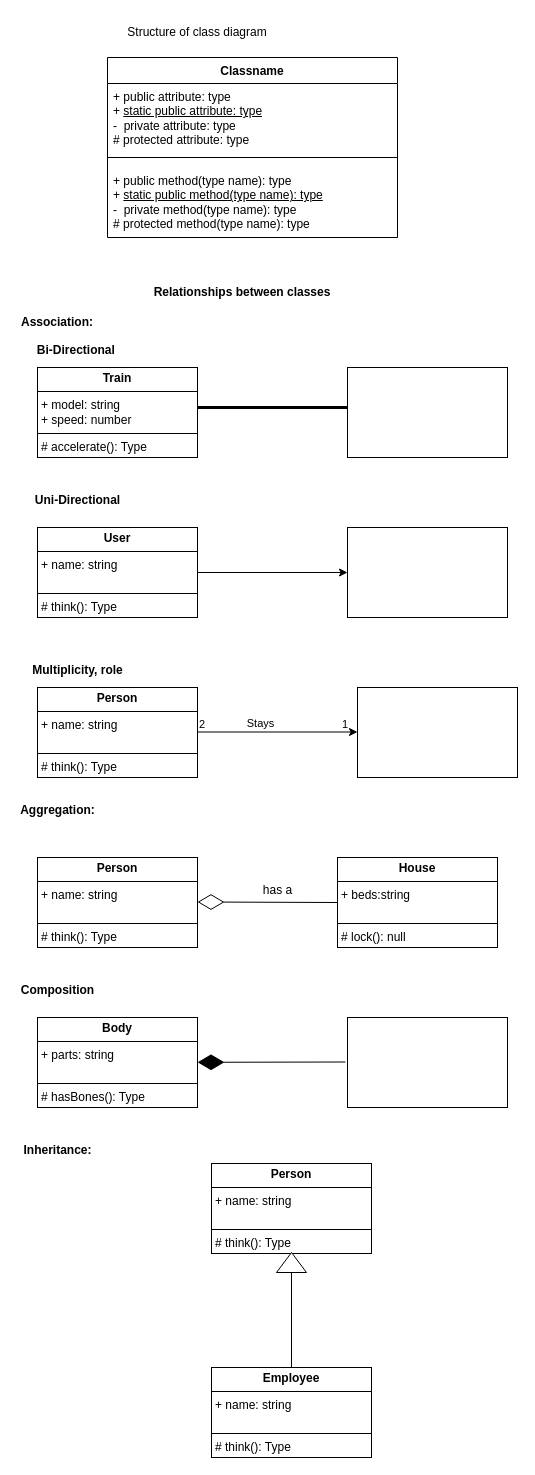
Some shapes in this 535 by 1475 pixel diagram are drawn without their labels. Each missing label, with the centre of its shape:
Eyes + sight:string # see(): null: the point at 427,1062
PC + model:string # turnOn(): null: the point at 427,572
Room + model:string # turnOn(): null: the point at 437,732
Train Control Station + id: string + checkTrainStatus(): Status: the point at 427,412
